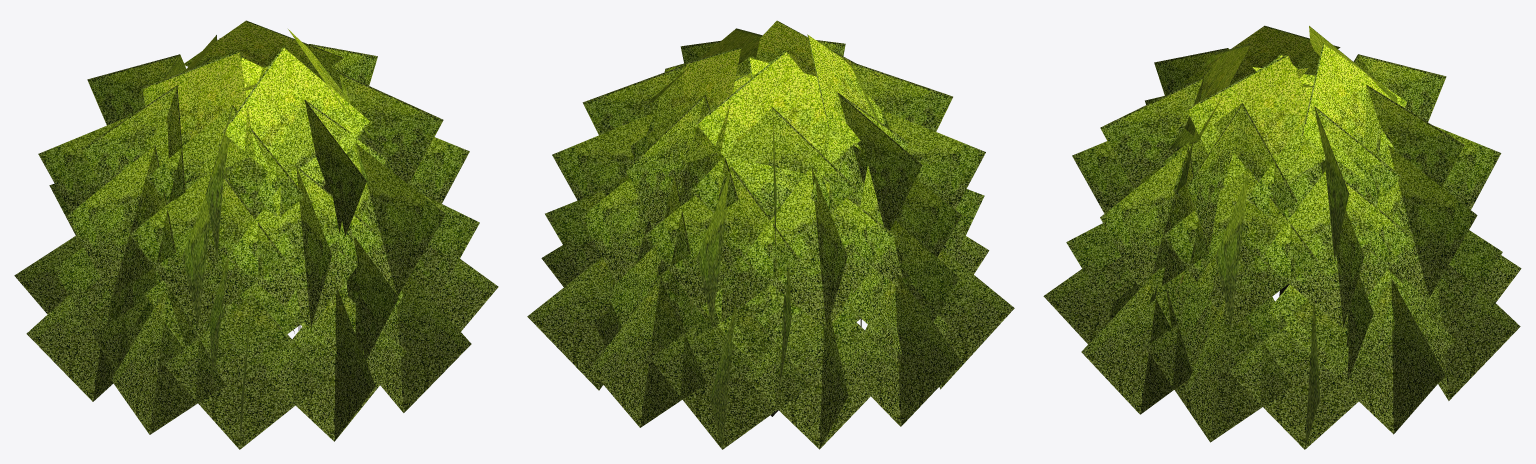
File: wilg_3.fbx
3 renders of one model, left to right at view 1: azimuth 30°, elevation 25°; view 2: azimuth 150°, elevation 25°; view 3: azimuth 270°, elevation 25°, orthographic.
Parts seen in each view (by area): view 1: wilg_3; view 2: wilg_3; view 3: wilg_3.
Part boxes in pixels (bbox=[...]): wilg_3: bbox=[14, 20, 498, 449]; wilg_3: bbox=[527, 20, 1014, 449]; wilg_3: bbox=[1043, 25, 1521, 449].
Size of the model in its own units: 2262 by 1954 by 2241.
